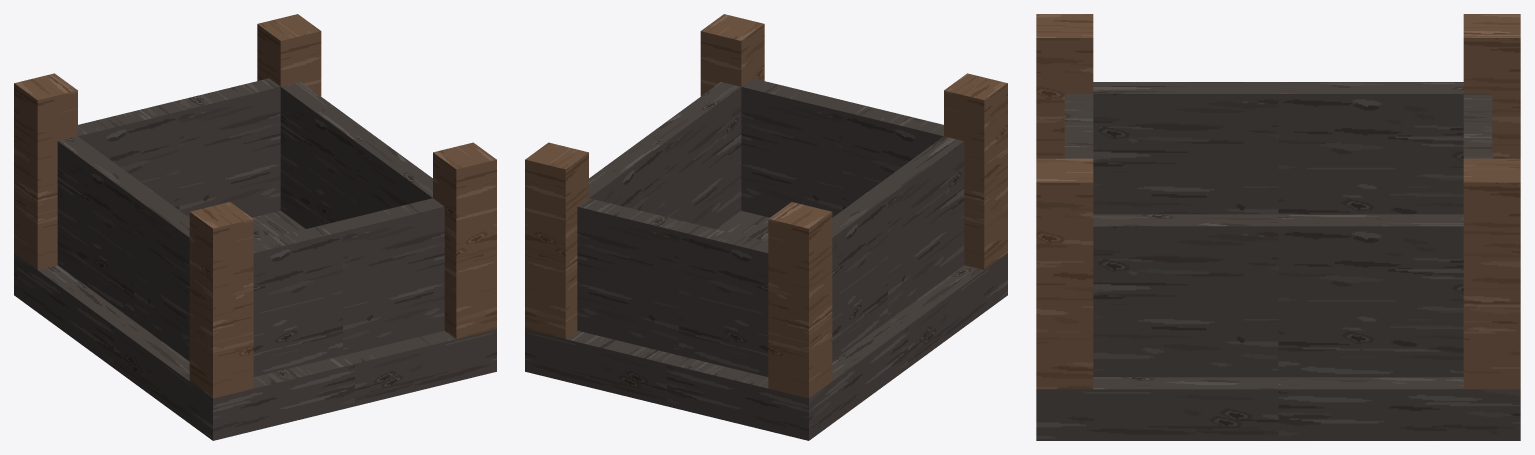
Rendered from crate.gltf.
3 renders of one model, left to right at view 1: azimuth 30°, elevation 25°; view 2: azimuth 150°, elevation 25°; view 3: azimuth 270°, elevation 25°, orthographic. The views are drawn at different scales.
Visible parts, largest first — view 1: crate; view 2: crate; view 3: crate.
Boxes of the visible parts, left/top/right/bottom form: crate: left=14, top=14, right=496, bottom=440; crate: left=525, top=14, right=1007, bottom=440; crate: left=1036, top=14, right=1520, bottom=440.
Bounding box in the file's own units: 1.08 × 0.77 × 1.31.
Materials: 2 (2 with a texture image).
